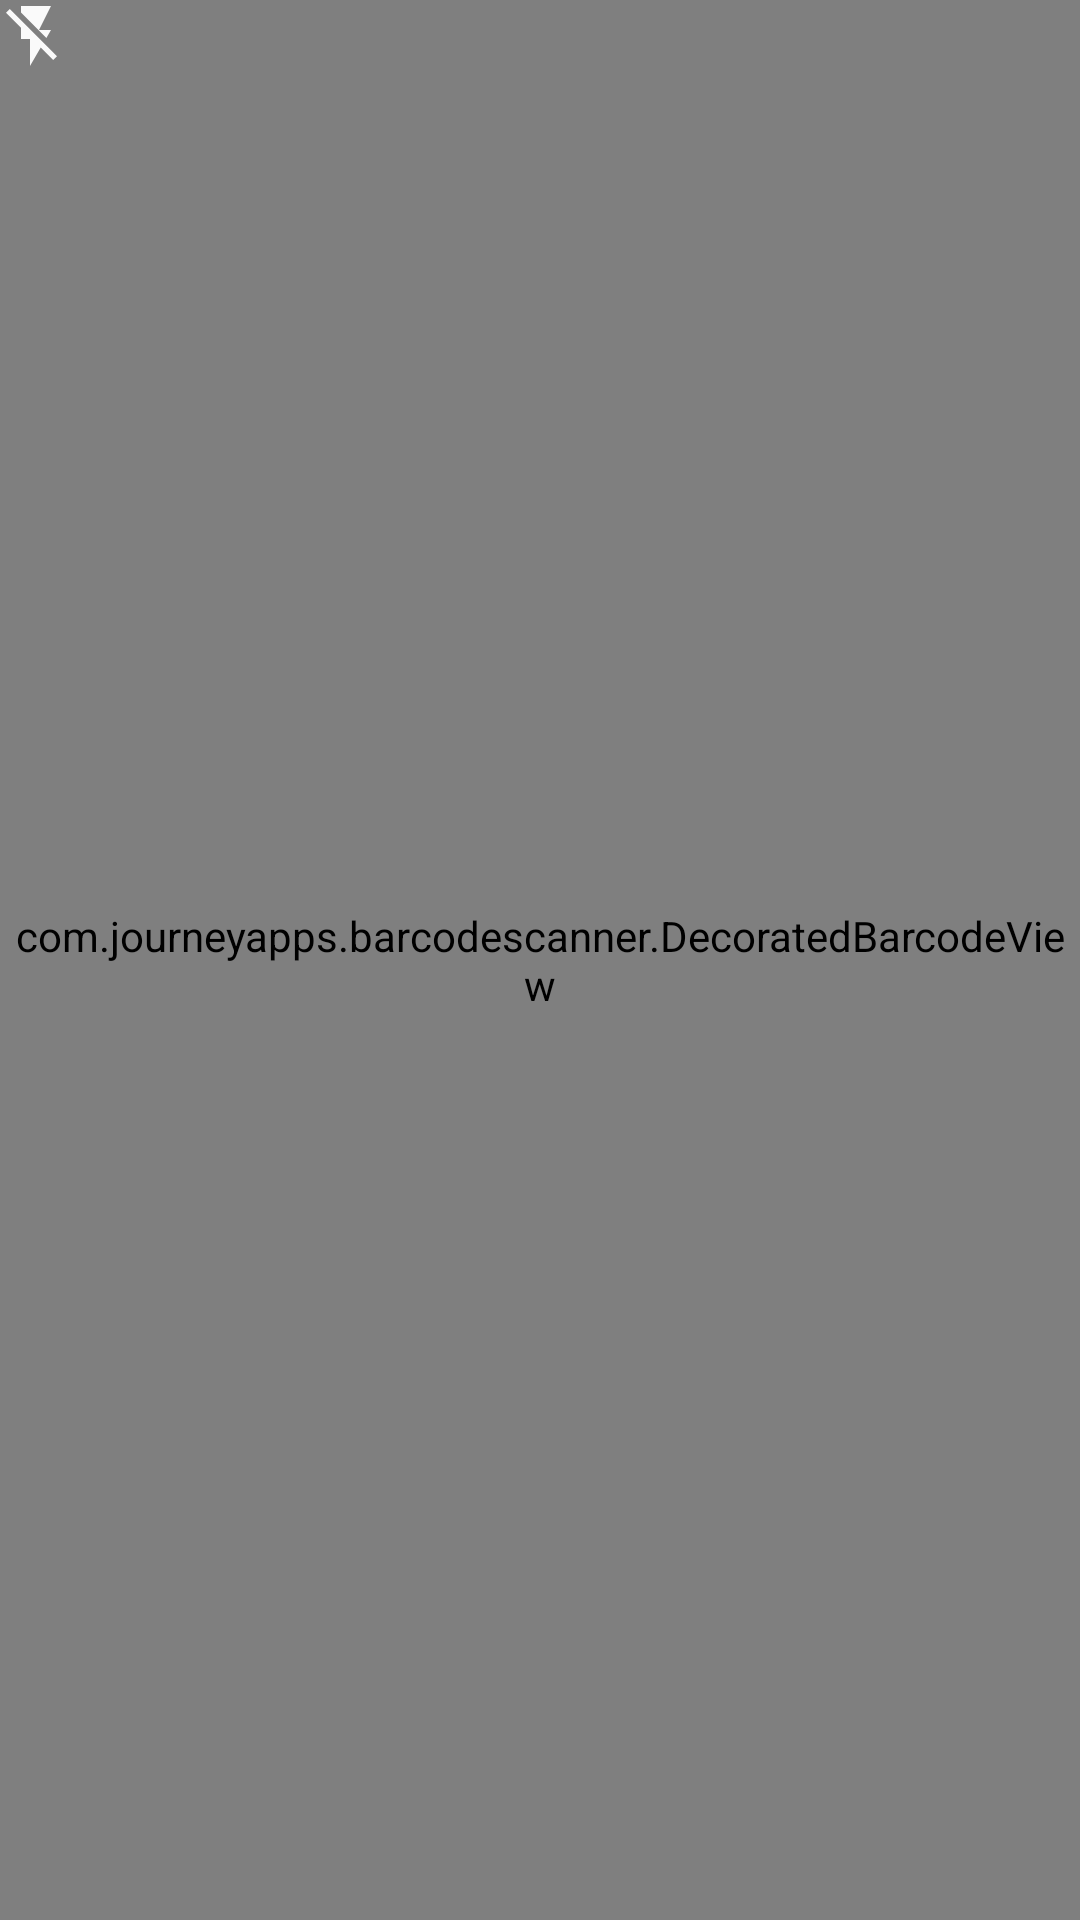

Icon click points for this 1080x1920 phone screenshot, format (x=x, y=y):
flash off: (x=31, y=36)
